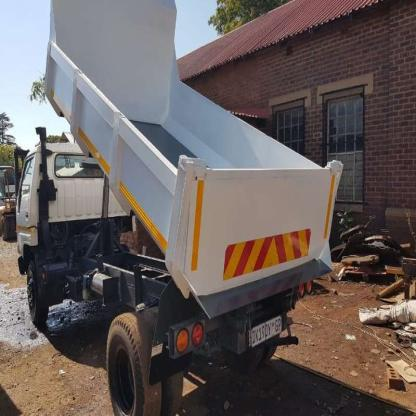dump_truck: (6, 2, 347, 416)
